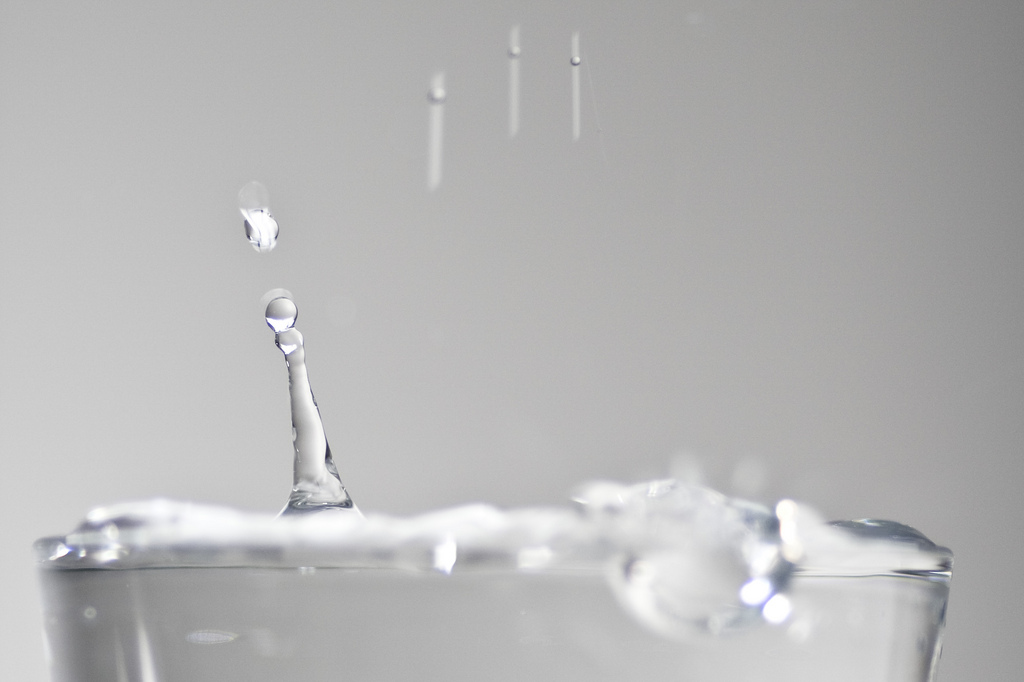glass of water: (27, 329, 947, 682)
